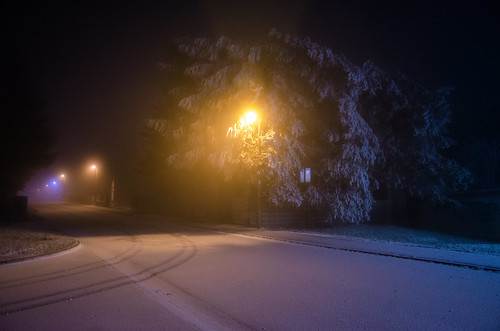light pole: (232, 106, 273, 233), (83, 160, 103, 205)
street: (11, 212, 459, 331)
tree: (154, 38, 434, 214)
